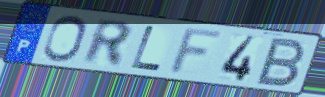4: (217, 33, 257, 84)
B: (253, 36, 308, 88)
F: (165, 26, 228, 77)
L: (128, 24, 165, 73)
O: (40, 14, 89, 63)
R: (80, 17, 134, 70)
